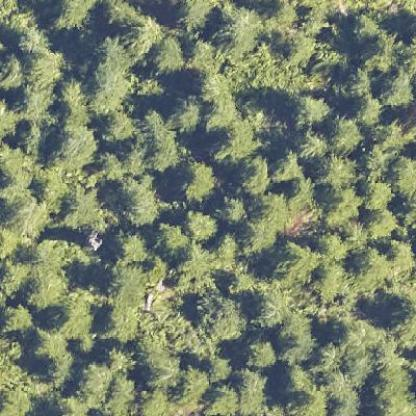tree-top: (189, 292, 254, 349), (40, 113, 100, 174), (237, 190, 295, 250), (13, 258, 72, 312), (85, 56, 135, 117), (114, 172, 166, 226), (16, 40, 66, 96), (270, 310, 322, 363), (342, 245, 395, 294), (183, 158, 232, 208), (231, 365, 275, 415), (77, 358, 121, 406), (320, 111, 364, 153), (374, 66, 414, 112), (266, 148, 307, 183), (364, 204, 395, 240)
